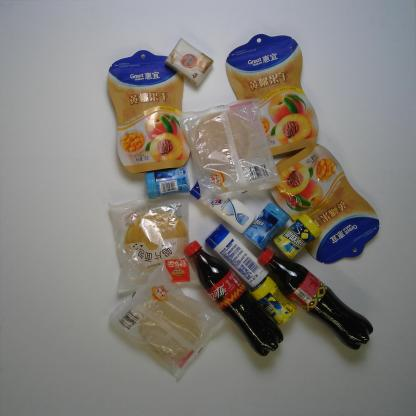Dessert: (110, 270, 224, 378), (174, 95, 282, 198), (110, 192, 198, 300)
Dried Fruit: (261, 143, 381, 263), (226, 34, 320, 157), (107, 48, 195, 178)
Drink: (180, 235, 284, 358), (260, 241, 374, 352)
Gum: (244, 199, 293, 252), (252, 277, 301, 330), (274, 214, 319, 258), (144, 166, 189, 198)
Personal Hygiene: (204, 219, 268, 284), (192, 177, 253, 235)
Tissue: (164, 38, 212, 86)
